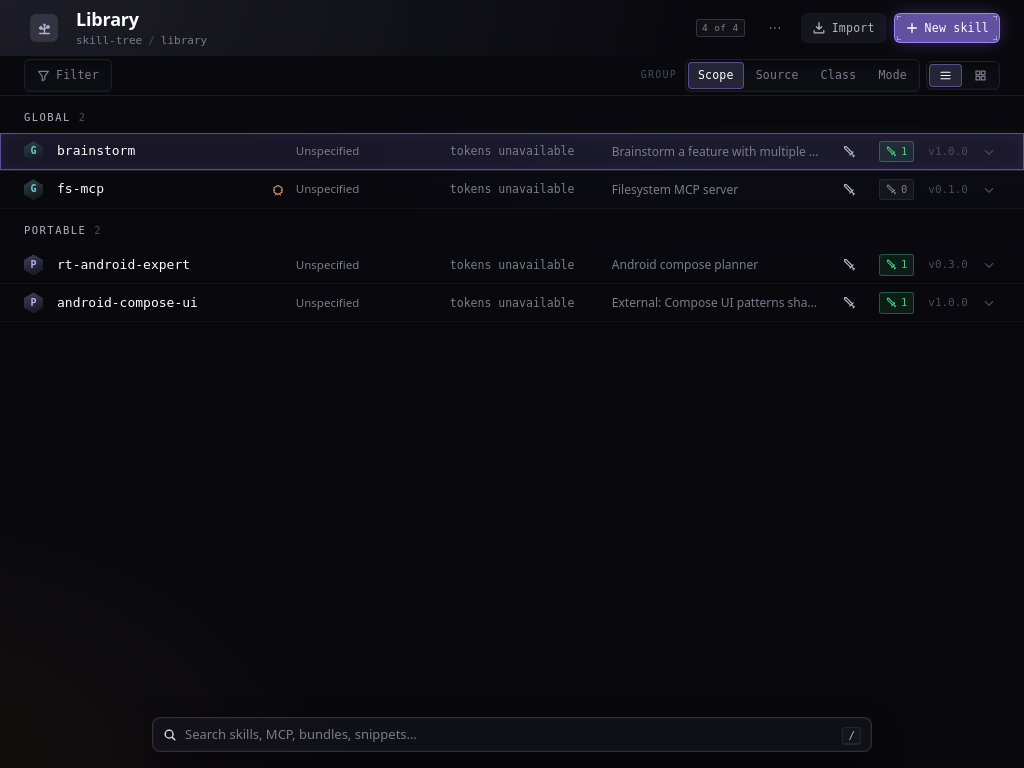
Scenario: Library list — source chip is an external-only deviation › a local-source skill renders no .source-chip; the external one does
The width and height of the screenshot is (1024, 768).
What coordinates should you click on to do the following:
click the 4th button with class "resource-disclosure"
I would click on:
 (989, 303)
Its box is [978,292,1000,314].
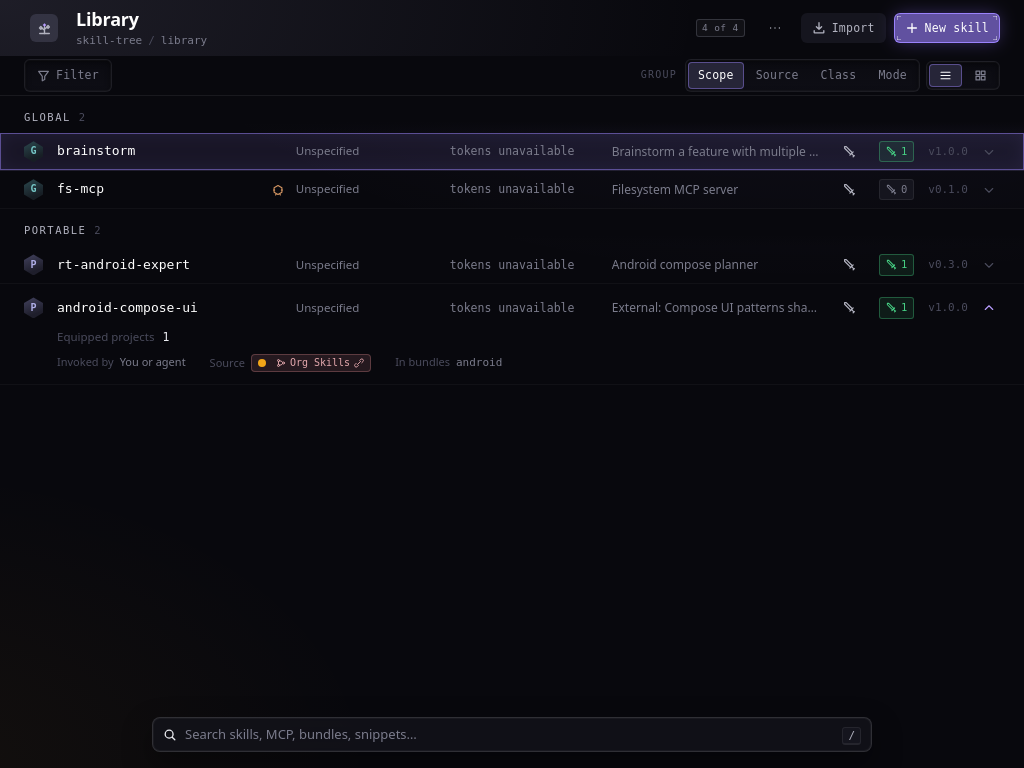
Expected: the button with class "source-chip" is shown, [251,354,371,372]
